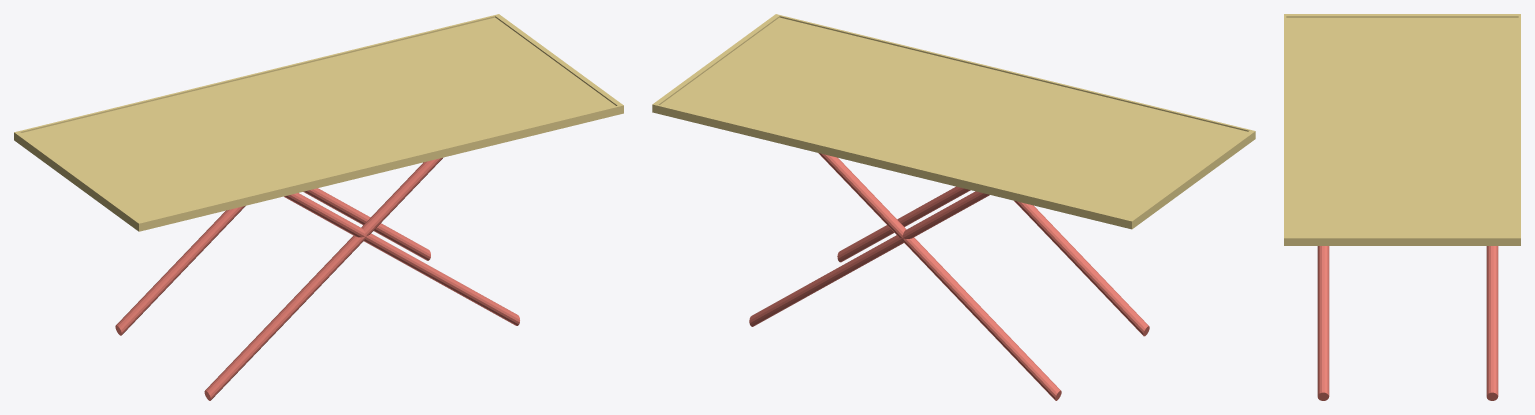
The model's file is Table.fbx.
3 views of the same model, side by side, from view 1: azimuth 30°, elevation 25°; view 2: azimuth 150°, elevation 25°; view 3: azimuth 270°, elevation 25° (orthographic). The views are drawn at different scales.
Visible parts, largest first — view 1: Cube.005; view 2: Cube.005; view 3: Cube.005.
Boxes of the visible parts, x1=… form: Cube.005: x1=14, y1=14, x2=623, y2=400; Cube.005: x1=652, y1=14, x2=1255, y2=400; Cube.005: x1=1284, y1=14, x2=1520, y2=400.
Bounding box in the file's own units: 2938 × 1239 × 1311.
